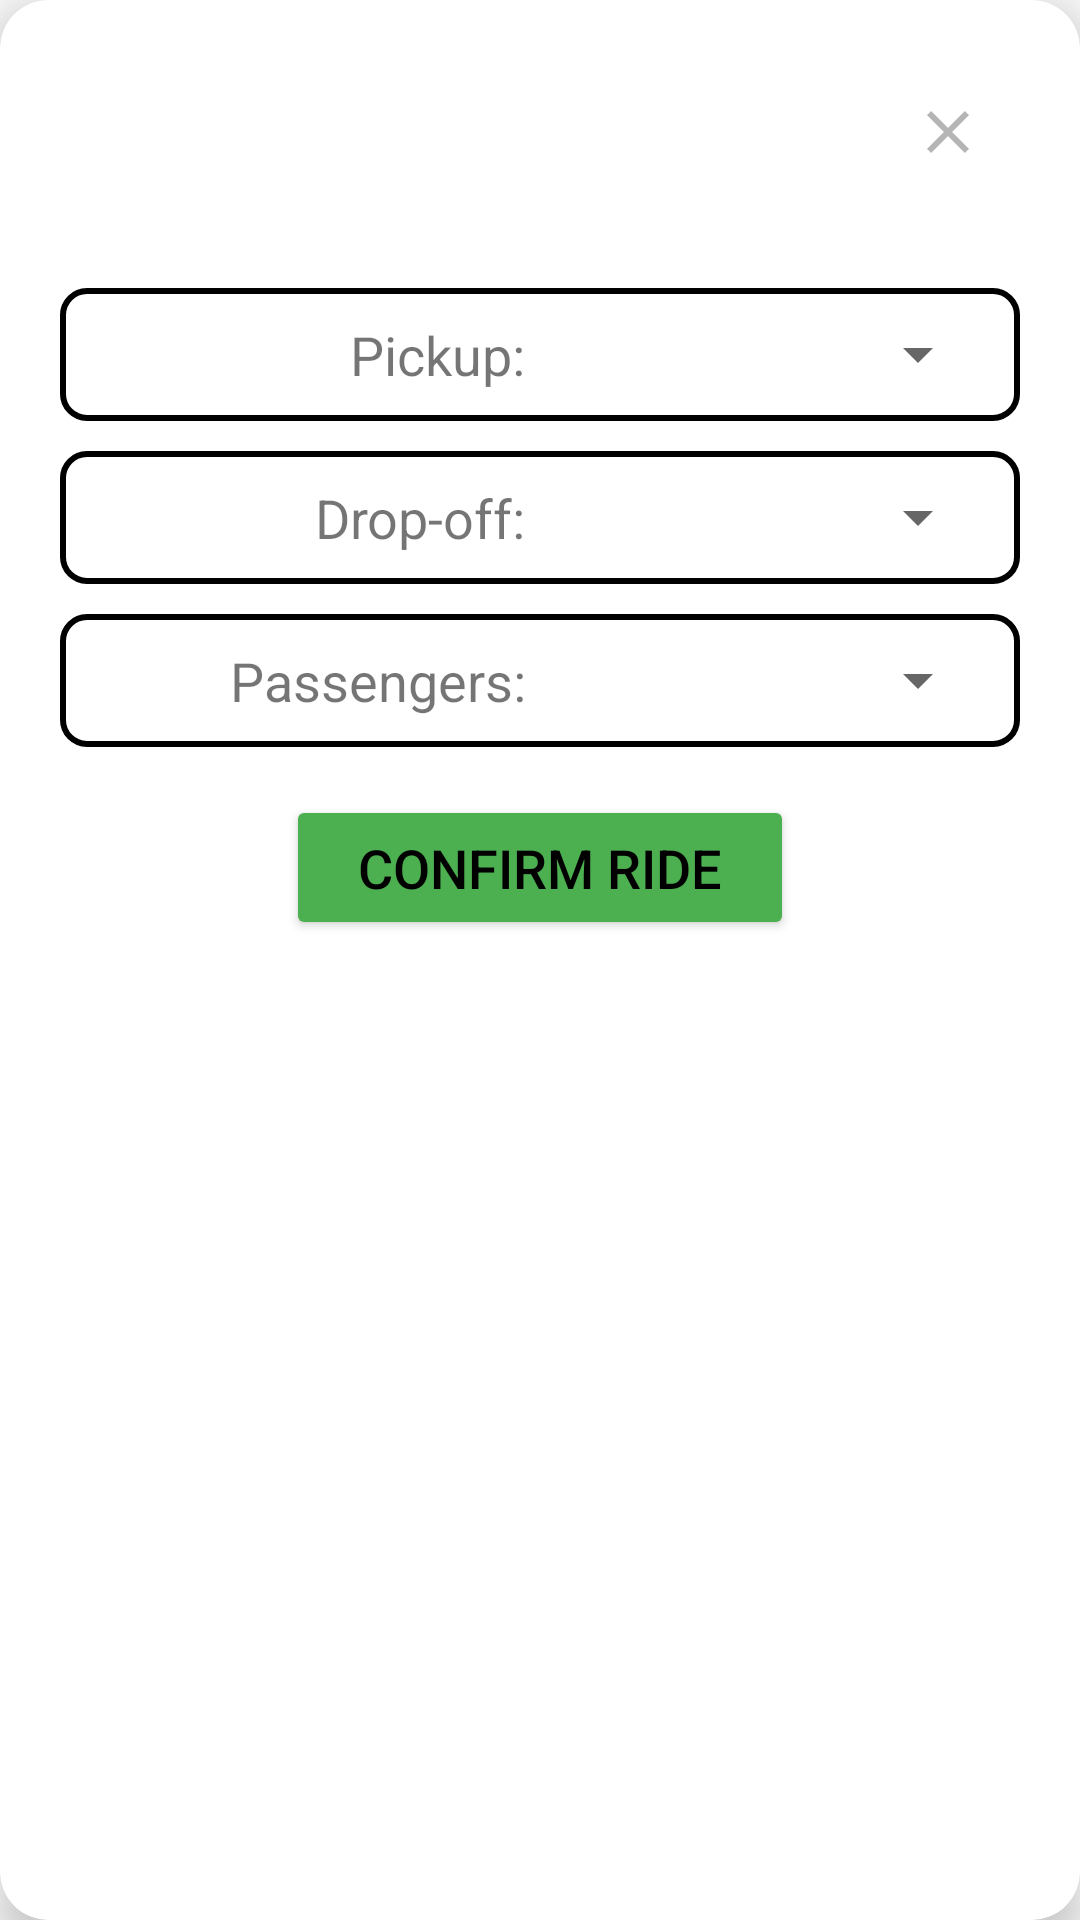

Locate icon controls on the screen. Image size 1080x1920, boxes as {"x1": x1, "y1": y1, "x2": x2, "y2": y2}.
Close: {"x1": 927, "y1": 111, "x2": 969, "y2": 153}
